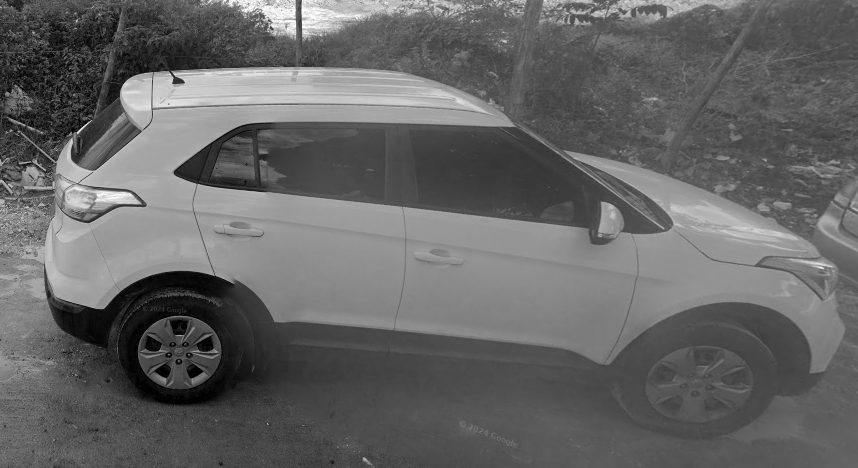car: (40, 69, 848, 436)
